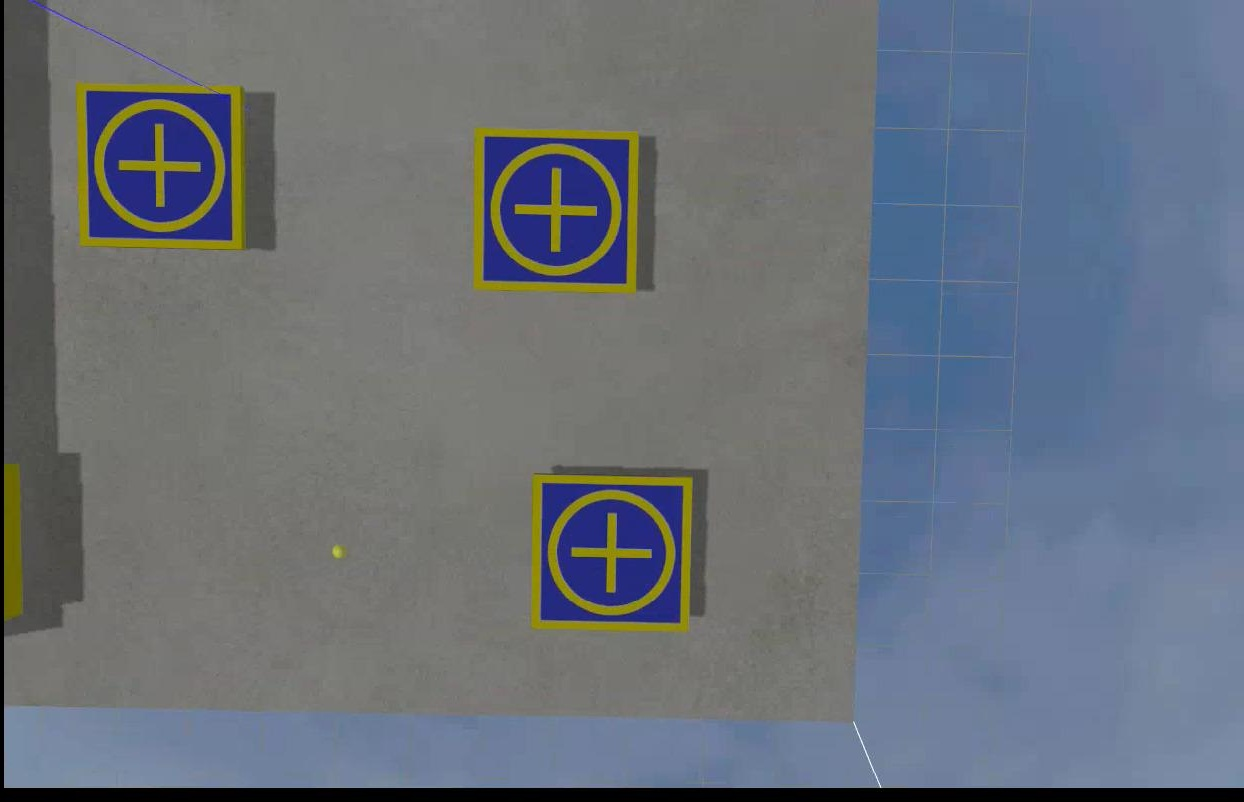small_base: (470, 127, 641, 297), (74, 81, 246, 250), (529, 473, 692, 635)
